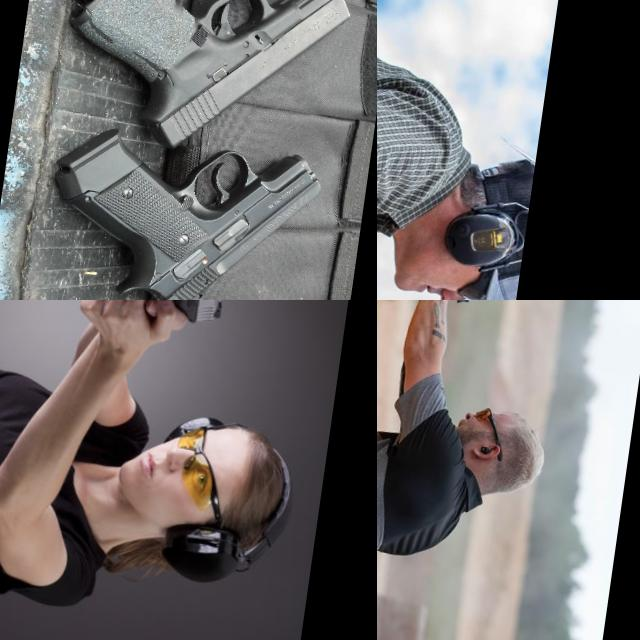handgun: (44, 0, 357, 172), (31, 120, 327, 300), (147, 300, 235, 355), (444, 300, 486, 345)
